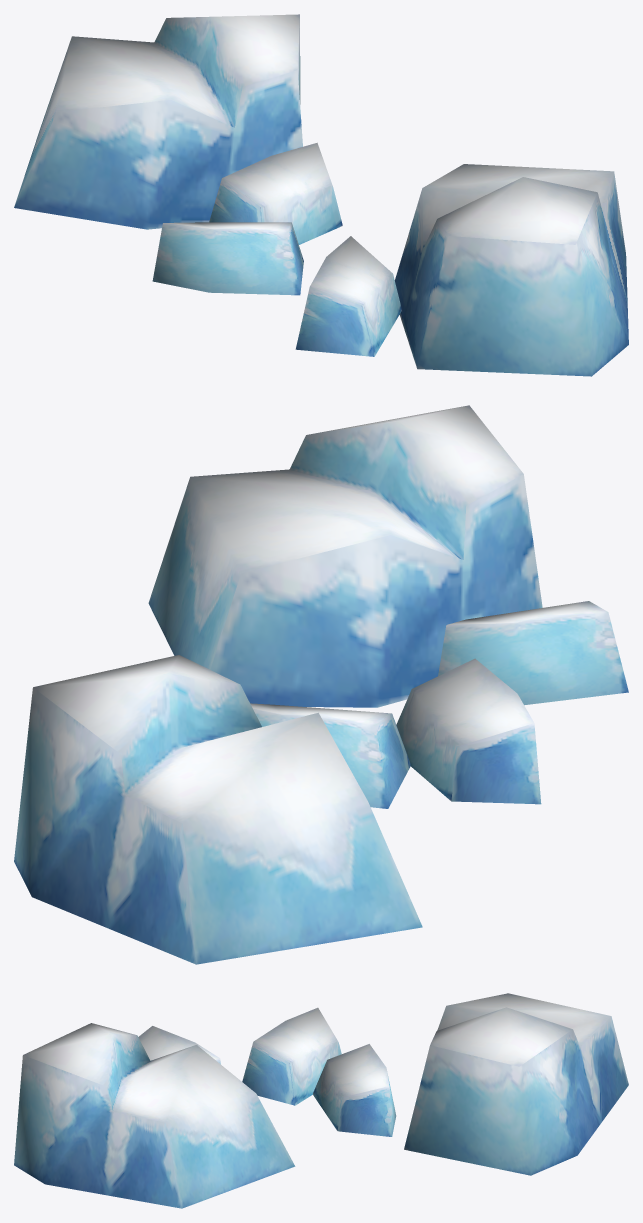
The model's file is SM_stoneC_08.fbx.
3 views of the same model, one above another, from view 1: azimuth 30°, elevation 25°; view 2: azimuth 150°, elevation 25°; view 3: azimuth 270°, elevation 25° (orthographic). The views are drawn at different scales.
Visible parts, largest first — view 1: SM_stoneC_08; view 2: SM_stoneC_08; view 3: SM_stoneC_08.
Part boxes in pixels (x1=…): SM_stoneC_08: x1=14, y1=14, x2=628, y2=376; SM_stoneC_08: x1=14, y1=405, x2=628, y2=964; SM_stoneC_08: x1=14, y1=993, x2=628, y2=1208.
Bounding box in the file's own units: 2.49 × 0.9216 × 3.96.
